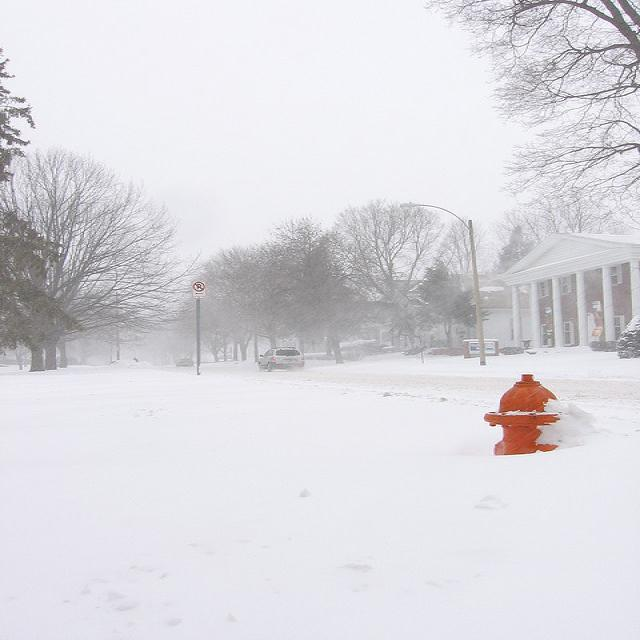fire_hydrant: (485, 374, 563, 454)
